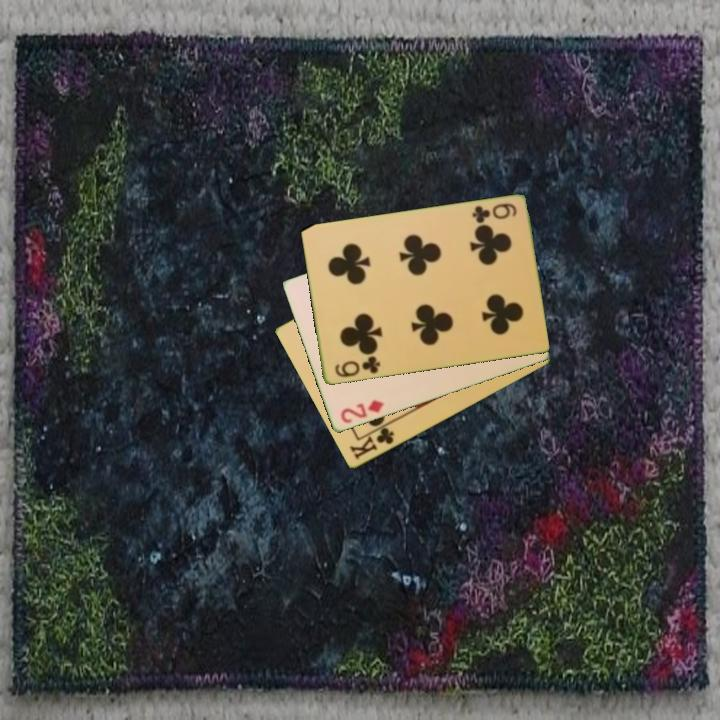2d: (337, 397, 386, 426)
6c: (331, 353, 383, 381), (468, 200, 519, 226)
Kc: (346, 420, 397, 463)
